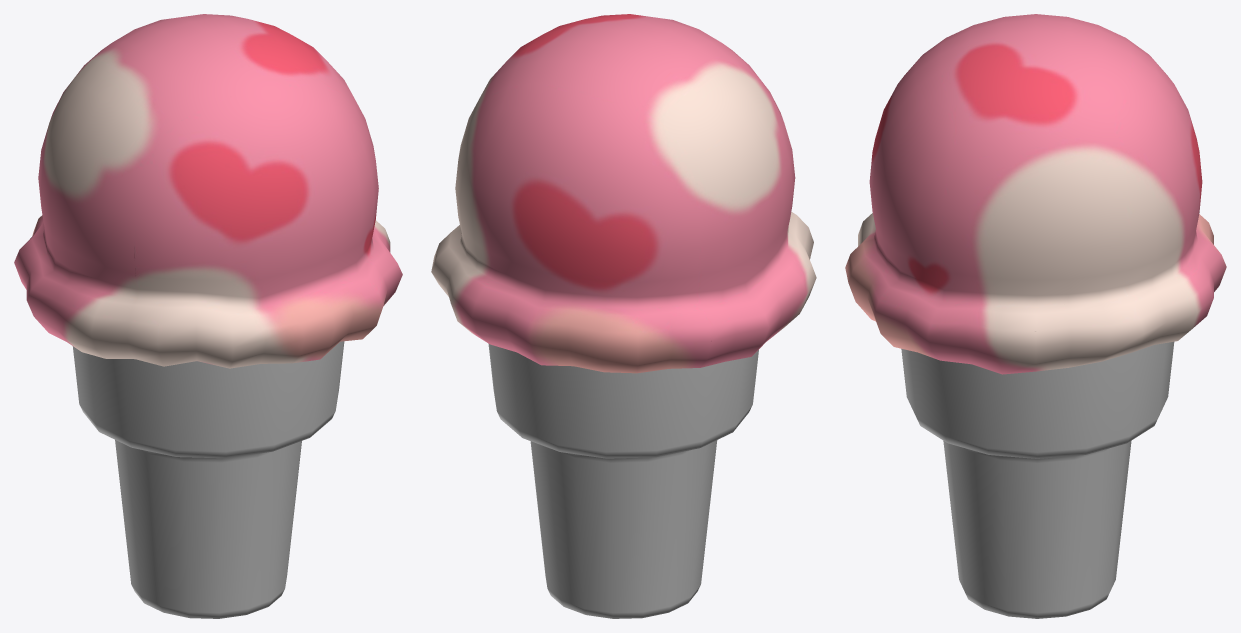
Rendered from IcecreamPBall.fbx.
3 views of the same model, side by side, from view 1: azimuth 30°, elevation 25°; view 2: azimuth 150°, elevation 25°; view 3: azimuth 270°, elevation 25° (orthographic).
Parts seen in each view (by area): view 1: pSphere10; view 2: pSphere10; view 3: pSphere10.
Part boxes in pixels (box(x1,y1,x2,y2)): pSphere10: box(14, 14, 402, 618); pSphere10: box(431, 14, 816, 618); pSphere10: box(845, 14, 1226, 618).
Bounding box in the file's own units: 188 × 306 × 189.
